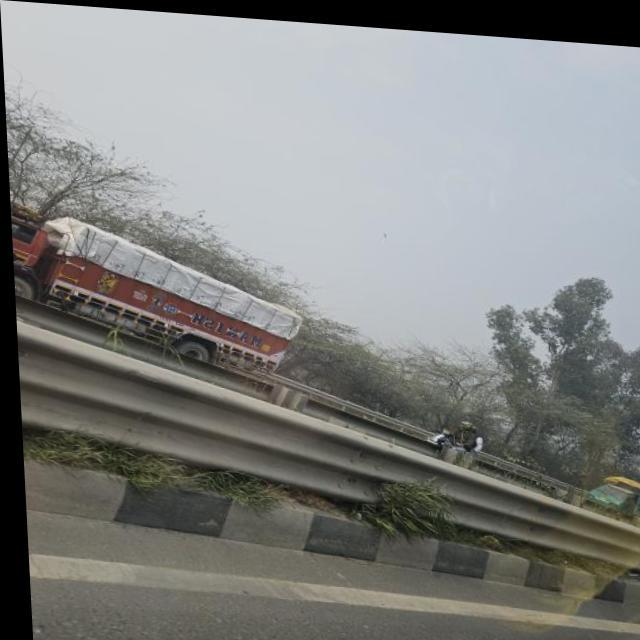covered: (8, 185, 316, 381)
